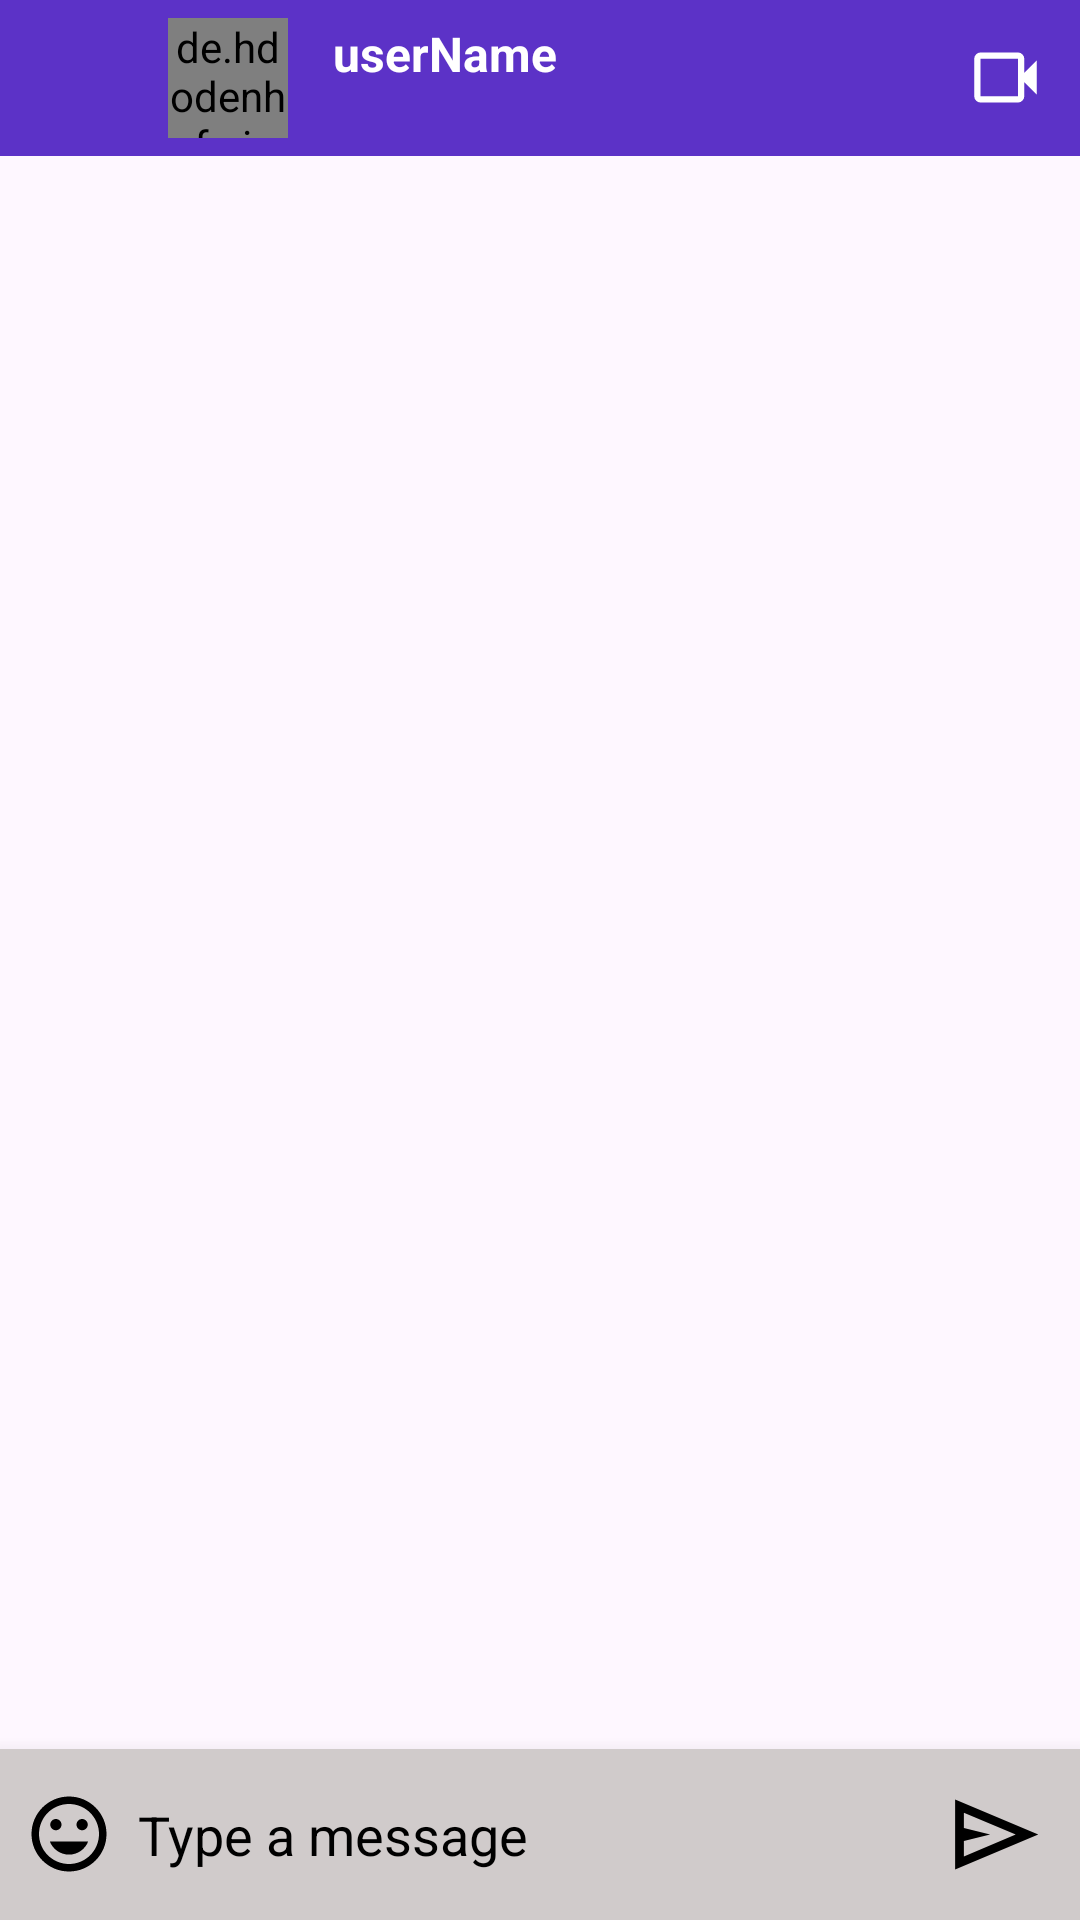

Icon click points for this 1080w x 1920h phone screenshot, format (x,y):
emoji: (69,1834)
send: (996,1834)
video call: (1005,77)
